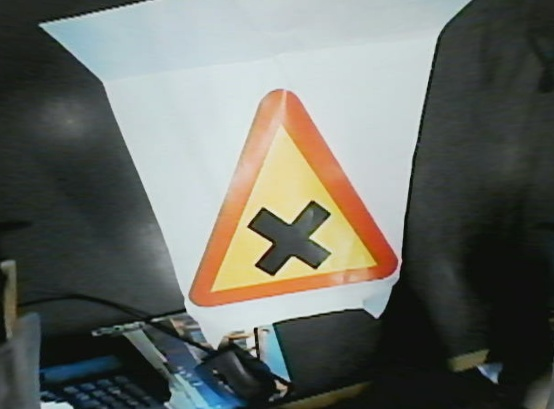junction: (199, 87, 408, 307)
